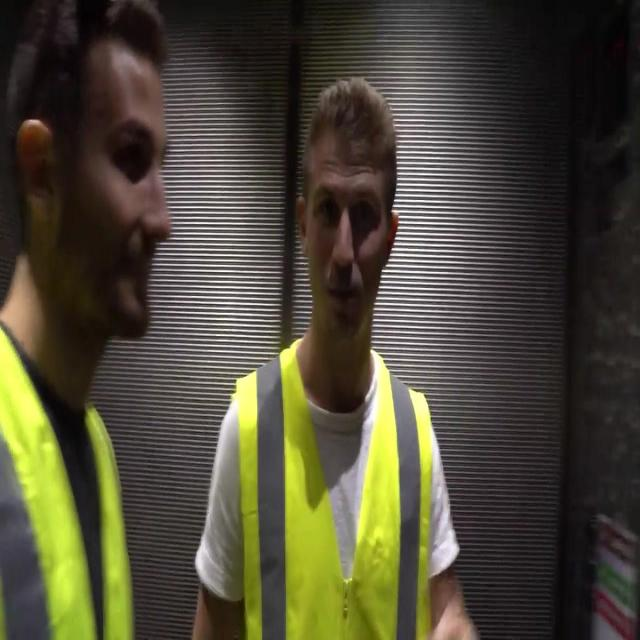Reflective-Jacket: (225, 346, 438, 640), (0, 299, 137, 640)
